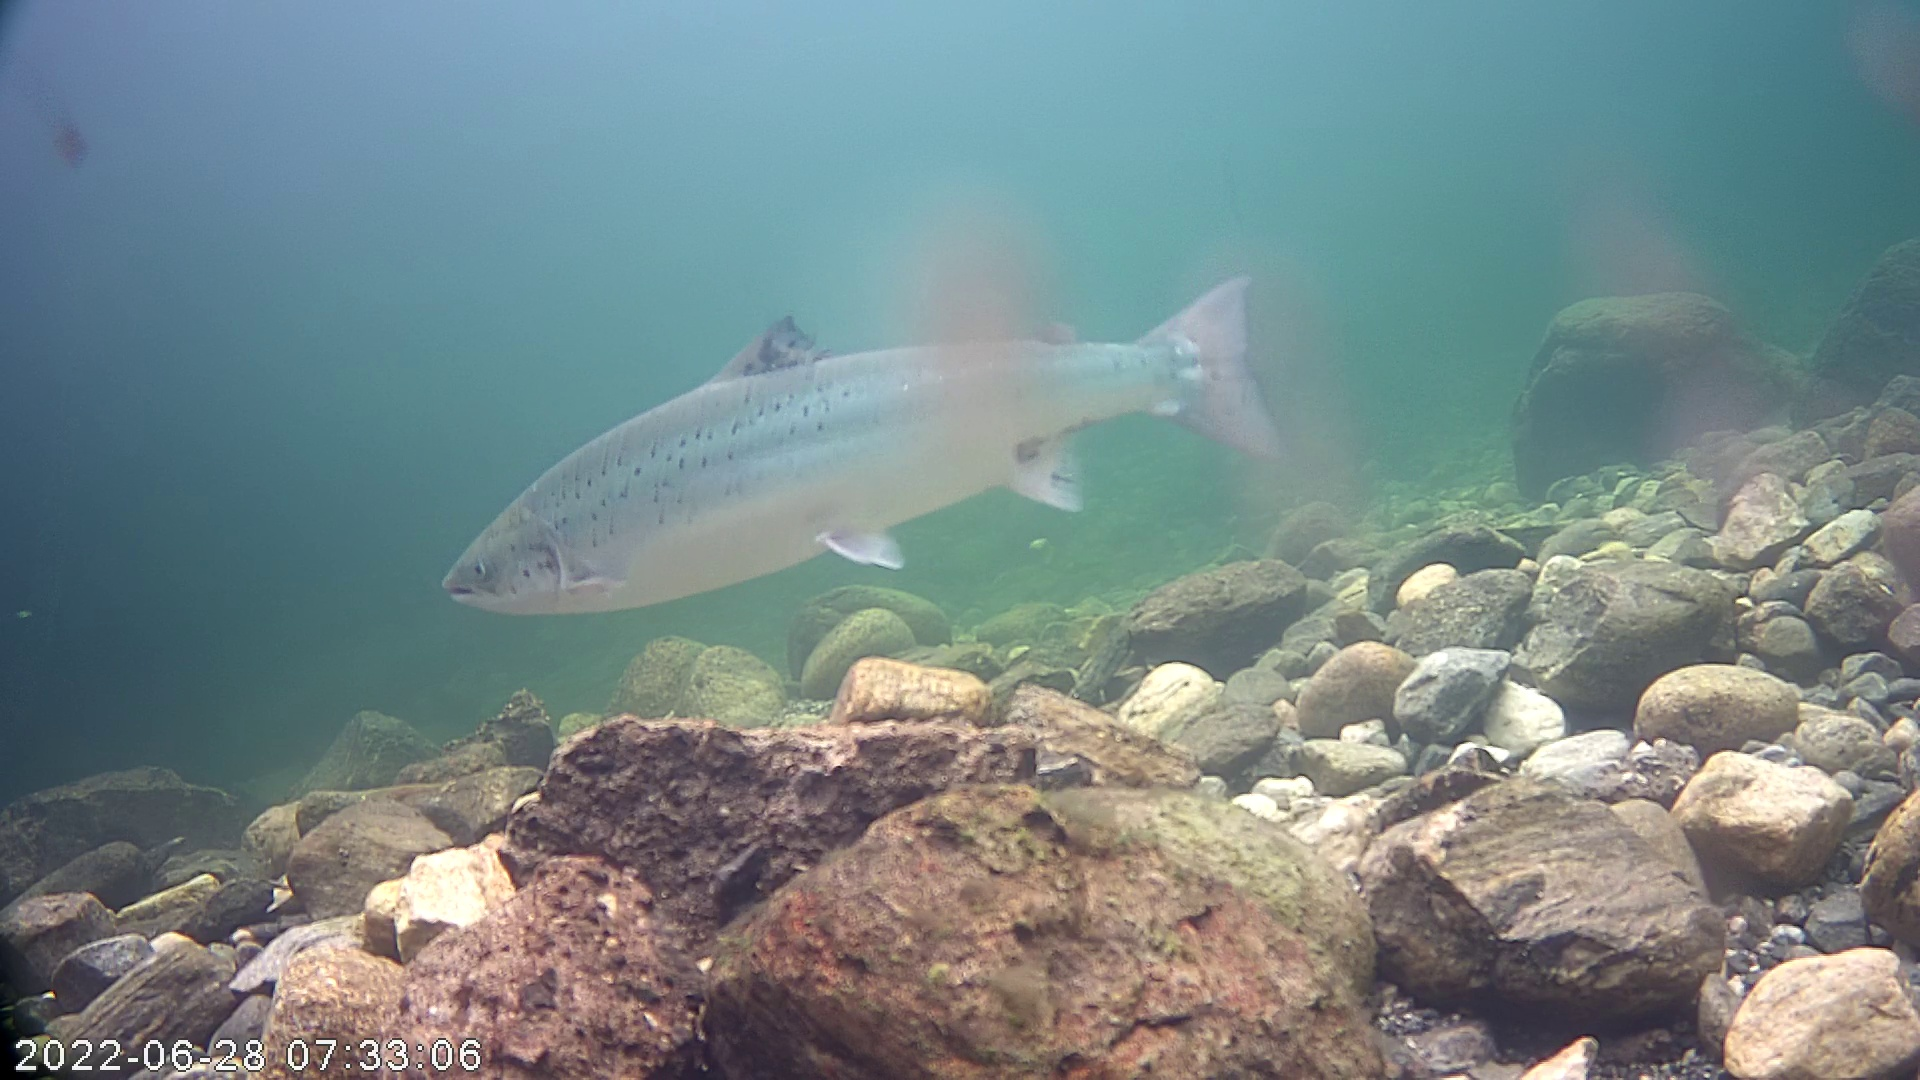salmon: (433, 198, 1303, 636)
